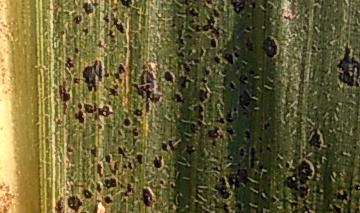tarspot: (131, 62, 164, 114), (335, 41, 360, 89), (81, 57, 104, 92), (305, 127, 330, 153), (294, 157, 315, 186), (225, 168, 250, 191), (212, 174, 232, 201), (58, 79, 72, 116), (200, 15, 220, 39), (261, 36, 280, 59), (238, 88, 258, 109), (140, 184, 157, 208), (281, 172, 300, 193), (111, 13, 128, 35), (173, 24, 185, 51), (177, 73, 194, 92), (67, 193, 83, 213), (211, 197, 230, 213), (196, 84, 211, 104), (228, 1, 247, 16), (333, 187, 350, 203), (205, 125, 220, 141), (243, 33, 255, 53), (54, 194, 66, 213), (81, 1, 95, 17), (102, 176, 118, 190), (178, 58, 192, 74), (185, 5, 201, 19), (221, 51, 235, 67), (296, 184, 310, 200), (244, 200, 261, 213), (97, 105, 115, 117), (249, 142, 256, 170), (299, 199, 313, 213), (83, 101, 98, 114), (152, 154, 164, 170), (116, 145, 129, 159), (162, 69, 175, 83), (184, 142, 197, 156), (187, 121, 200, 135), (103, 86, 121, 96), (74, 109, 85, 125), (237, 72, 250, 85), (89, 144, 101, 158), (174, 45, 186, 59), (64, 56, 76, 69), (82, 189, 95, 201), (124, 183, 136, 196), (103, 194, 115, 206), (96, 160, 104, 178), (119, 1, 135, 10), (174, 190, 183, 206), (232, 201, 244, 213), (330, 201, 342, 213), (171, 92, 184, 103), (216, 1, 227, 14), (167, 138, 177, 152), (197, 103, 205, 120), (240, 25, 257, 33), (73, 14, 84, 26), (122, 116, 133, 128), (211, 163, 223, 174), (134, 152, 144, 165), (208, 37, 218, 50), (245, 1, 258, 11), (103, 153, 114, 164), (105, 28, 115, 40), (93, 198, 101, 213), (132, 107, 144, 117), (159, 140, 169, 152), (243, 127, 251, 142), (117, 62, 126, 75), (212, 7, 221, 20), (197, 45, 205, 59), (238, 145, 246, 159), (54, 115, 64, 126), (65, 143, 75, 154), (72, 76, 82, 87), (116, 180, 127, 190), (262, 121, 272, 132), (227, 80, 236, 92), (222, 152, 234, 161), (226, 125, 235, 137), (95, 39, 105, 49), (212, 55, 221, 66), (258, 1, 269, 10), (102, 13, 110, 25), (189, 57, 201, 65), (225, 110, 233, 122), (96, 179, 102, 194), (155, 61, 164, 71), (217, 116, 227, 125), (195, 119, 206, 127), (181, 32, 193, 39), (257, 160, 264, 172), (257, 146, 264, 158), (283, 159, 290, 171), (81, 27, 90, 36), (102, 69, 111, 78), (132, 117, 141, 126), (122, 109, 131, 118), (199, 76, 208, 85), (264, 145, 273, 154), (320, 156, 329, 165), (73, 46, 81, 56), (116, 127, 124, 137), (126, 161, 134, 171), (131, 137, 139, 147), (209, 140, 219, 148), (211, 155, 221, 163), (309, 43, 317, 53), (353, 181, 360, 192), (76, 101, 84, 110), (121, 196, 129, 205), (186, 18, 195, 26), (248, 67, 257, 75), (91, 1, 101, 8), (105, 123, 115, 130), (314, 159, 321, 169), (93, 114, 101, 122), (167, 203, 175, 211), (300, 24, 308, 32), (104, 172, 113, 179), (184, 204, 191, 213), (186, 47, 193, 56), (241, 138, 248, 147), (270, 195, 277, 204), (60, 28, 67, 36), (96, 123, 104, 130), (167, 112, 174, 120), (158, 179, 166, 186), (169, 182, 176, 190), (192, 104, 199, 112), (174, 205, 181, 213), (185, 56, 193, 63), (236, 160, 243, 168), (271, 60, 278, 68), (257, 135, 263, 144), (113, 83, 120, 90), (170, 22, 177, 29), (233, 51, 240, 58), (212, 175, 219, 182), (219, 126, 226, 133), (242, 110, 249, 117), (107, 99, 113, 107), (166, 81, 172, 89), (226, 136, 234, 142), (274, 183, 280, 191), (102, 24, 108, 31), (122, 163, 128, 170), (133, 125, 140, 131), (157, 75, 163, 82), (218, 134, 225, 140), (230, 205, 236, 212), (260, 207, 267, 213), (275, 162, 281, 169), (277, 156, 283, 163), (113, 72, 121, 77), (112, 7, 120, 12), (130, 174, 135, 182), (204, 1, 214, 5), (112, 77, 118, 83), (118, 77, 124, 83), (101, 8, 107, 14), (133, 131, 139, 137), (183, 1, 189, 7), (189, 62, 195, 68), (204, 172, 210, 178), (268, 4, 274, 10), (110, 190, 115, 197), (131, 147, 138, 152), (202, 166, 209, 171), (159, 208, 165, 213), (202, 3, 207, 9), (263, 170, 269, 175), (266, 180, 272, 185), (352, 144, 357, 150), (112, 100, 117, 105), (120, 85, 125, 90), (177, 127, 182, 132), (316, 47, 322, 51), (127, 129, 132, 133), (125, 129, 128, 134)
